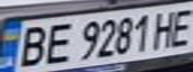1: (130, 11, 157, 52)
2: (96, 16, 121, 60)
8: (115, 14, 139, 56)
9: (75, 17, 103, 62)
B: (9, 22, 51, 70)
E: (36, 19, 75, 66), (166, 3, 193, 48)
H: (148, 7, 184, 50)
